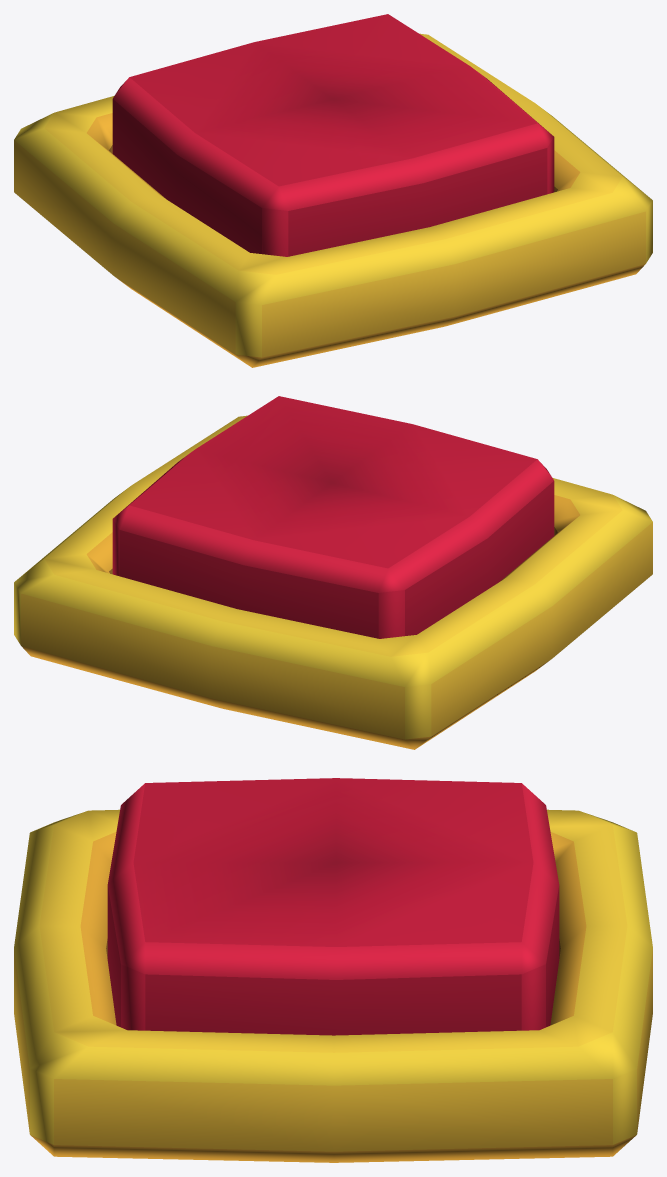
File: switch_floor_red.fbx
3 renders of one model, top to bottom at view 1: azimuth 30°, elevation 25°; view 2: azimuth 150°, elevation 25°; view 3: azimuth 270°, elevation 25°, orthographic. The views are drawn at different scales.
Visible parts, largest first — view 1: switch_floor_red_plate, switch_floor_red; view 2: switch_floor_red_plate, switch_floor_red; view 3: switch_floor_red, switch_floor_red_plate.
Boxes of the visible parts, x1,y1,x2,y2 form: switch_floor_red_plate: (112, 14, 554, 256); switch_floor_red: (14, 33, 652, 367); switch_floor_red_plate: (112, 396, 554, 638); switch_floor_red: (14, 415, 652, 749); switch_floor_red: (14, 809, 652, 1162); switch_floor_red_plate: (107, 778, 559, 1035).
Bounding box in the file's own units: 132 × 40 × 132.
